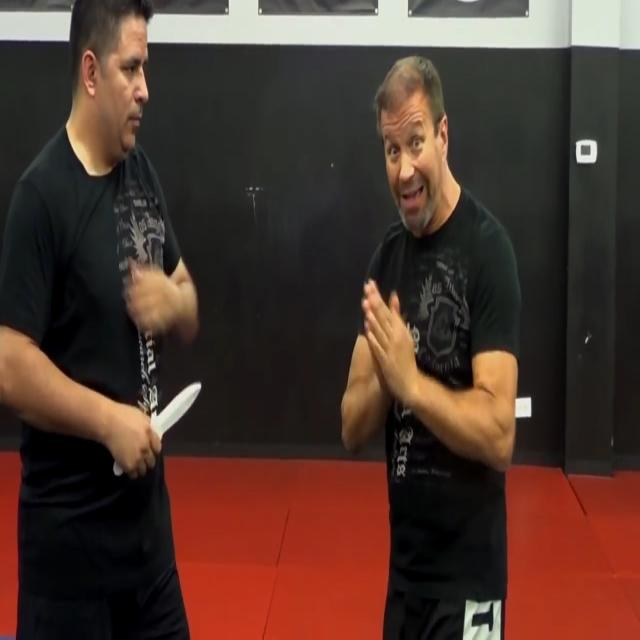knife: (156, 378, 206, 444)
